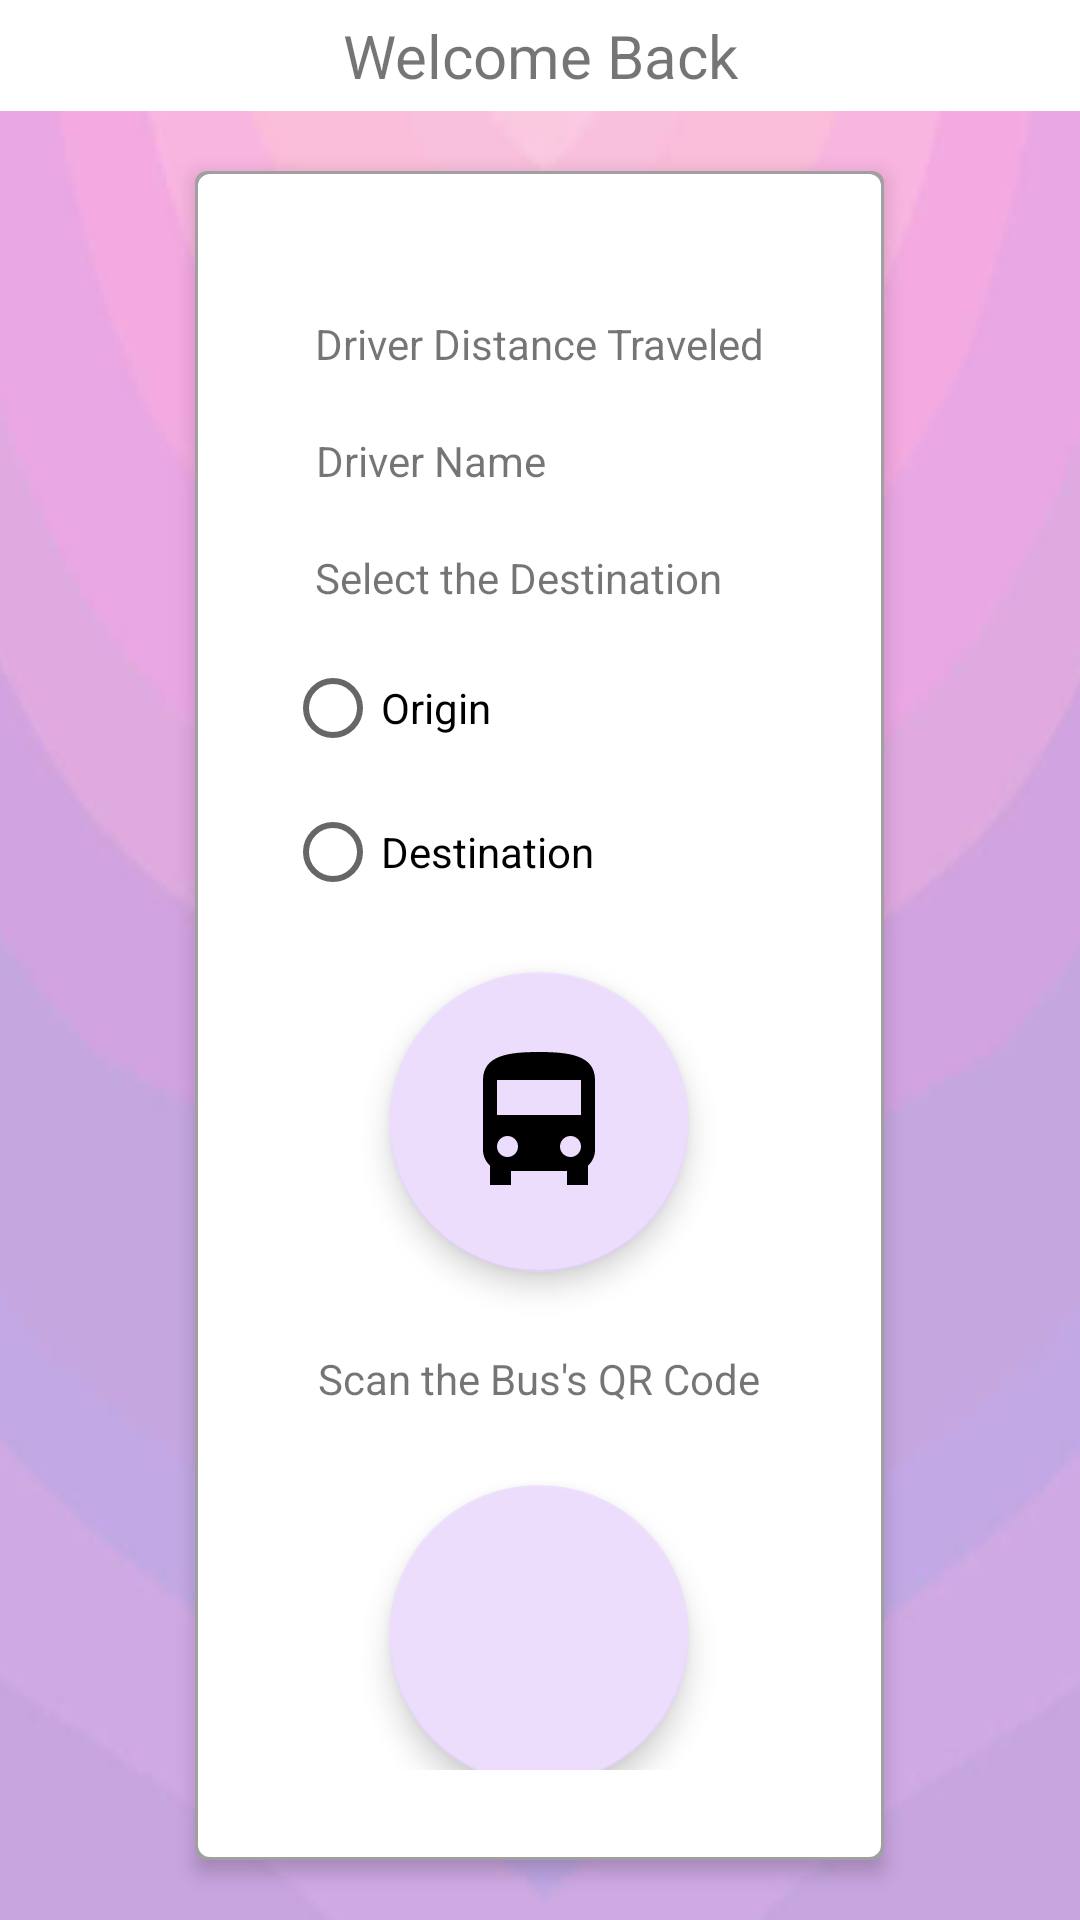

Icon bounding boxes for this 1080w x 1920h phone screenshot, format (x1, y1, x2, y2):
Add bus button: (389, 972, 689, 1272)
